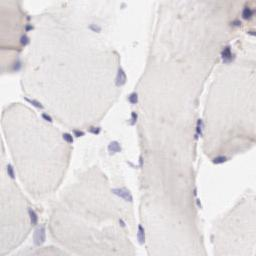nucleus: (109, 186, 134, 203), (220, 44, 236, 65), (33, 224, 47, 245), (114, 65, 127, 86), (25, 96, 43, 108), (28, 207, 39, 226), (107, 141, 121, 155), (136, 224, 145, 245), (211, 156, 234, 164), (87, 124, 102, 136), (6, 162, 16, 180), (242, 8, 252, 20), (130, 112, 138, 126), (73, 129, 85, 138), (41, 113, 53, 122), (129, 92, 138, 103), (62, 133, 73, 142), (91, 26, 102, 34), (25, 23, 34, 32), (20, 36, 30, 44), (118, 218, 126, 227), (196, 197, 202, 209), (192, 187, 198, 198), (139, 154, 143, 170), (196, 127, 203, 135), (245, 31, 256, 36), (232, 20, 240, 26), (193, 134, 199, 141), (128, 162, 136, 167), (197, 119, 204, 124), (16, 62, 20, 70), (27, 15, 30, 21)
